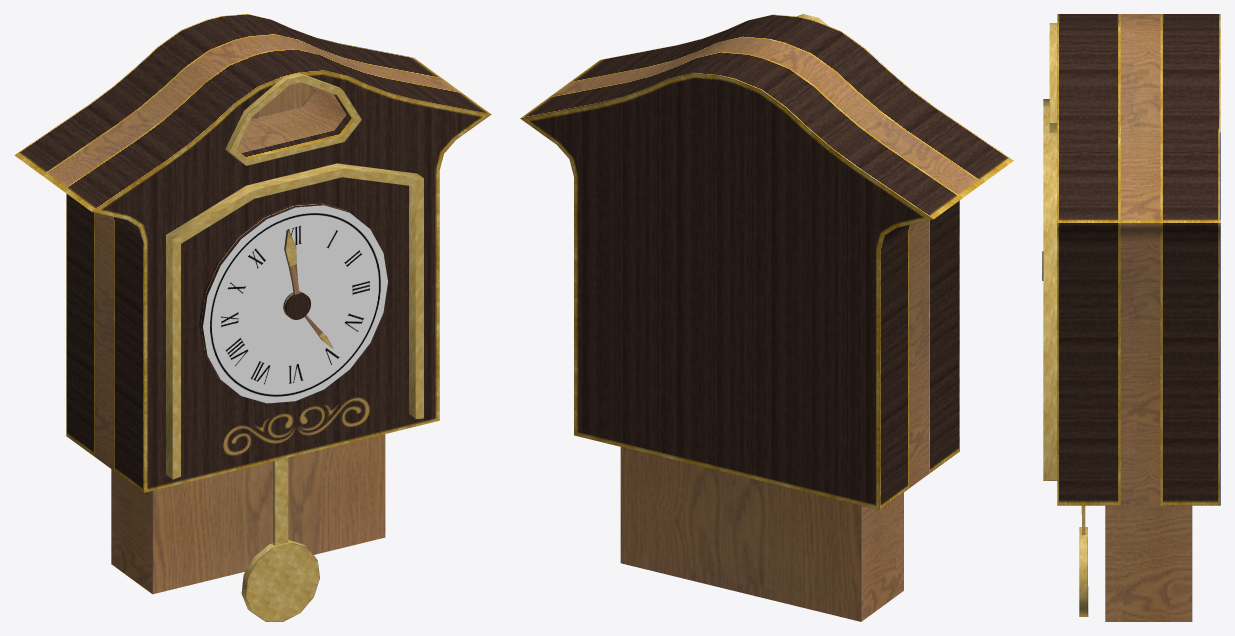
The model's file is wallclock.fbx.
The picture shows the model from 3 angles, left to right: view 1: azimuth 30°, elevation 25°; view 2: azimuth 150°, elevation 25°; view 3: azimuth 270°, elevation 25°; orthographic projection. The views are drawn at different scales.
Visible parts, largest first — view 1: RelParede, RelParede_Pendalo; view 2: RelParede; view 3: RelParede, RelParede_Pendalo.
Part boxes in pixels (bbox=[...]): RelParede: bbox=[14, 14, 491, 594]; RelParede_Pendalo: bbox=[241, 458, 319, 621]; RelParede: bbox=[520, 14, 1013, 621]; RelParede: bbox=[1042, 14, 1220, 621]; RelParede_Pendalo: bbox=[1079, 505, 1088, 616].
Bounding box in the file's own units: 48.25 × 64.04 × 17.7.
1 material, 1 textured.
